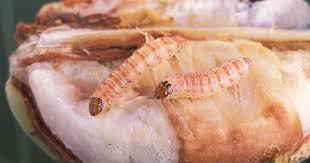insect: (83, 26, 187, 119), (150, 53, 256, 106)
